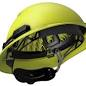helmets: (0, 0, 86, 84)
